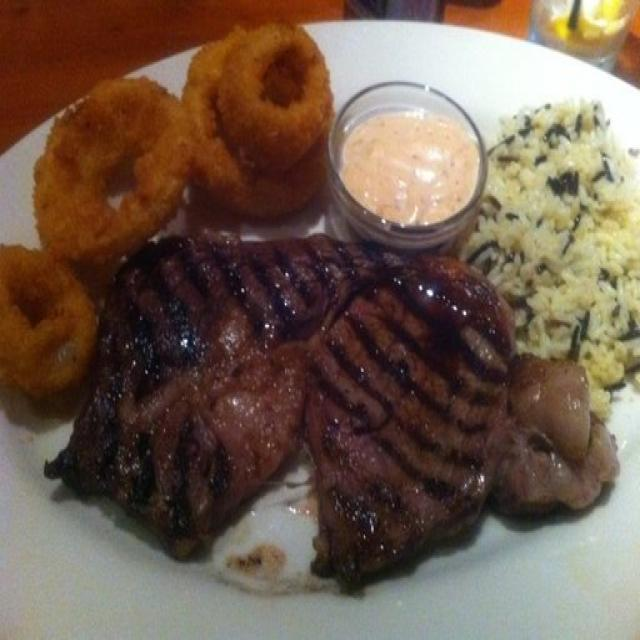Steak: (126, 223, 536, 570)
